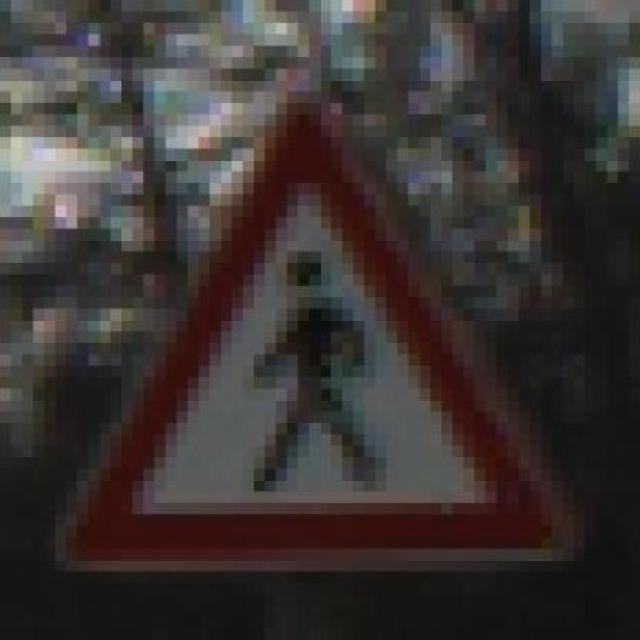Pedestrian Crossing: (55, 103, 596, 583)
